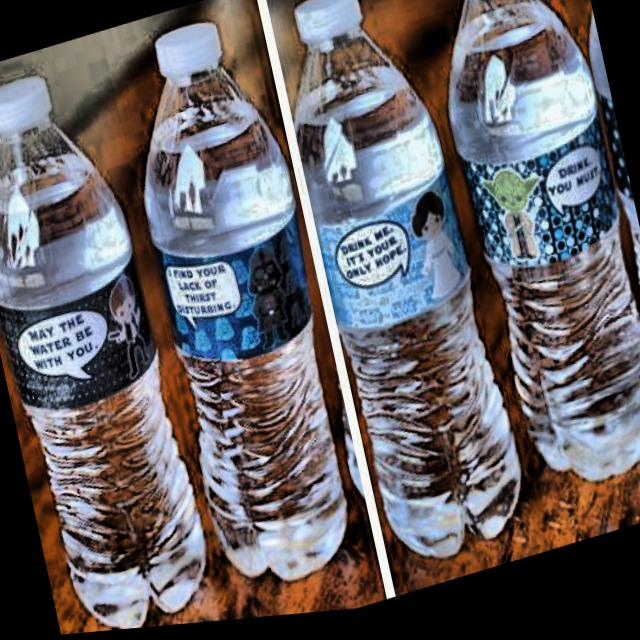Bottles: (100, 0, 378, 625), (265, 0, 548, 597), (0, 28, 228, 640), (393, 0, 640, 533)
